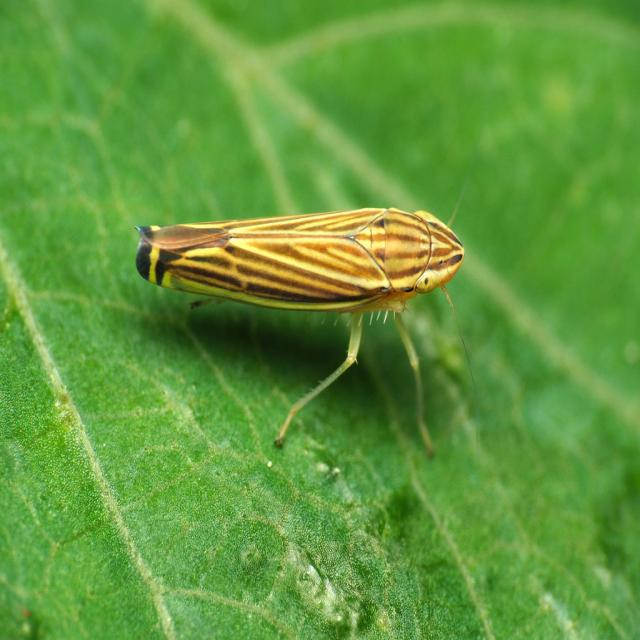Yechan: (133, 173, 490, 342)
